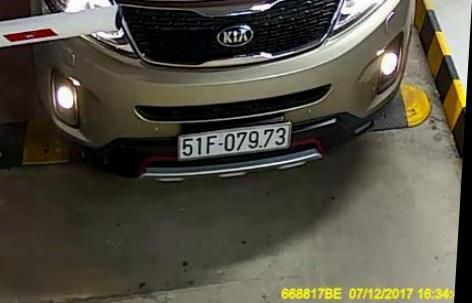License_Plate: (173, 123, 302, 162)
